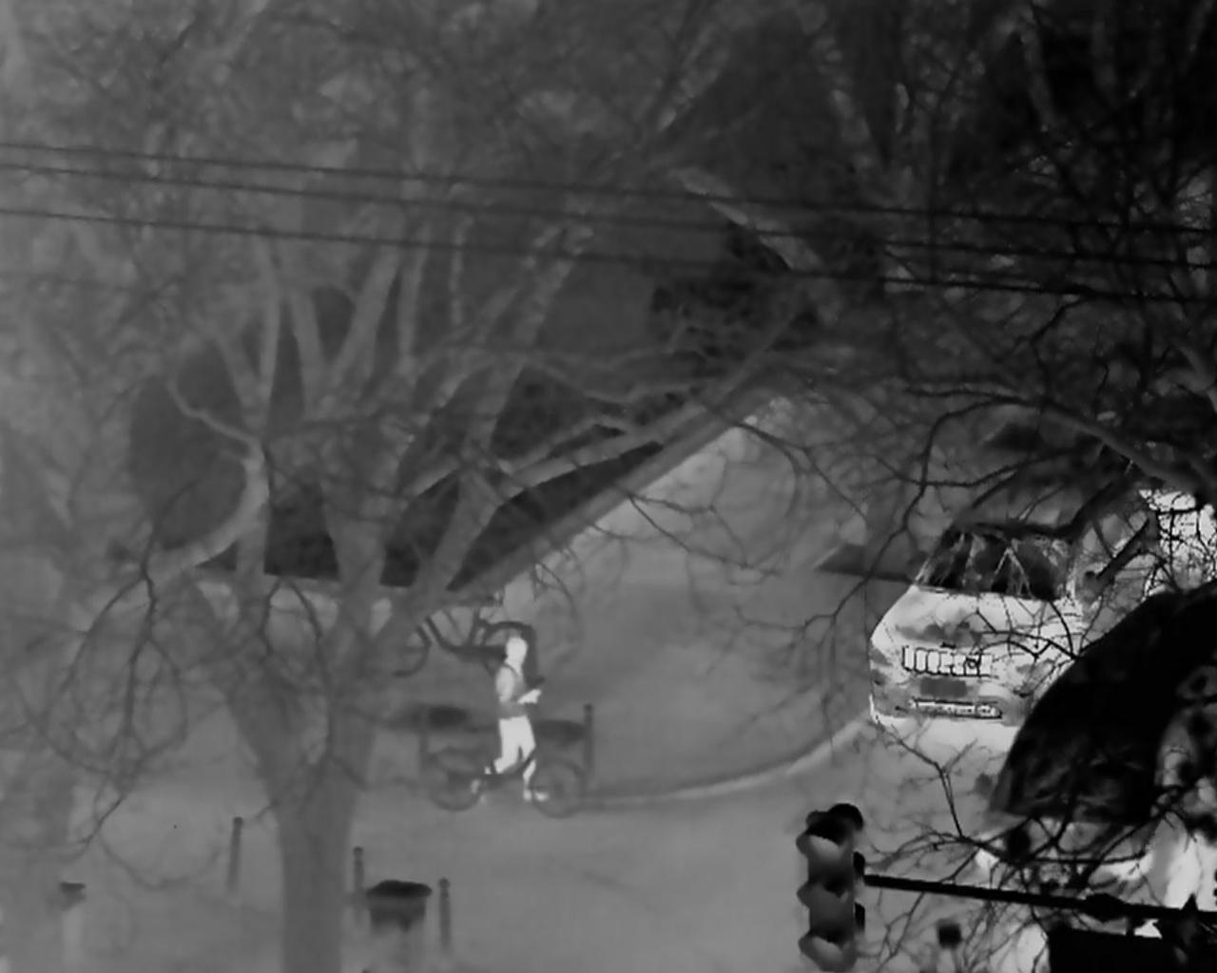person: (486, 635, 551, 801)
